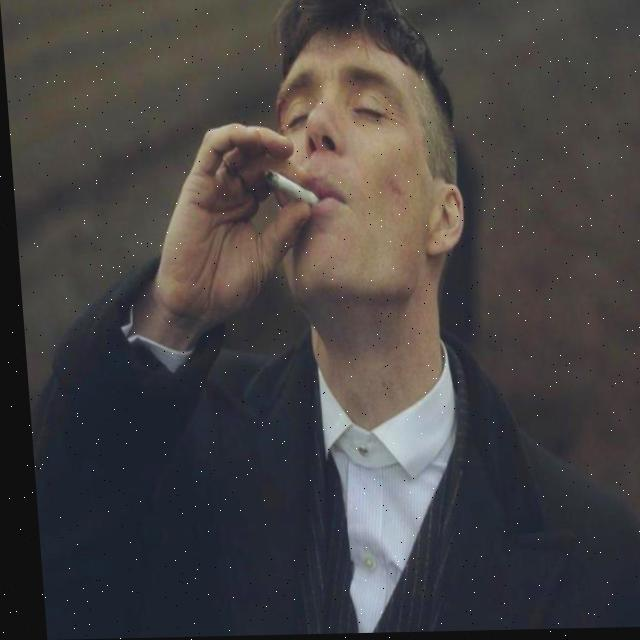cigarette: (263, 172, 316, 210)
